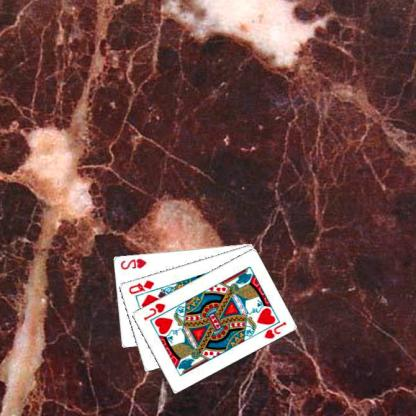2H: (119, 256, 149, 271)
JH: (143, 300, 168, 322), (263, 319, 289, 340)
QD: (127, 277, 157, 295)
